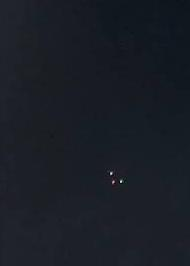Plane: (100, 163, 132, 193)
